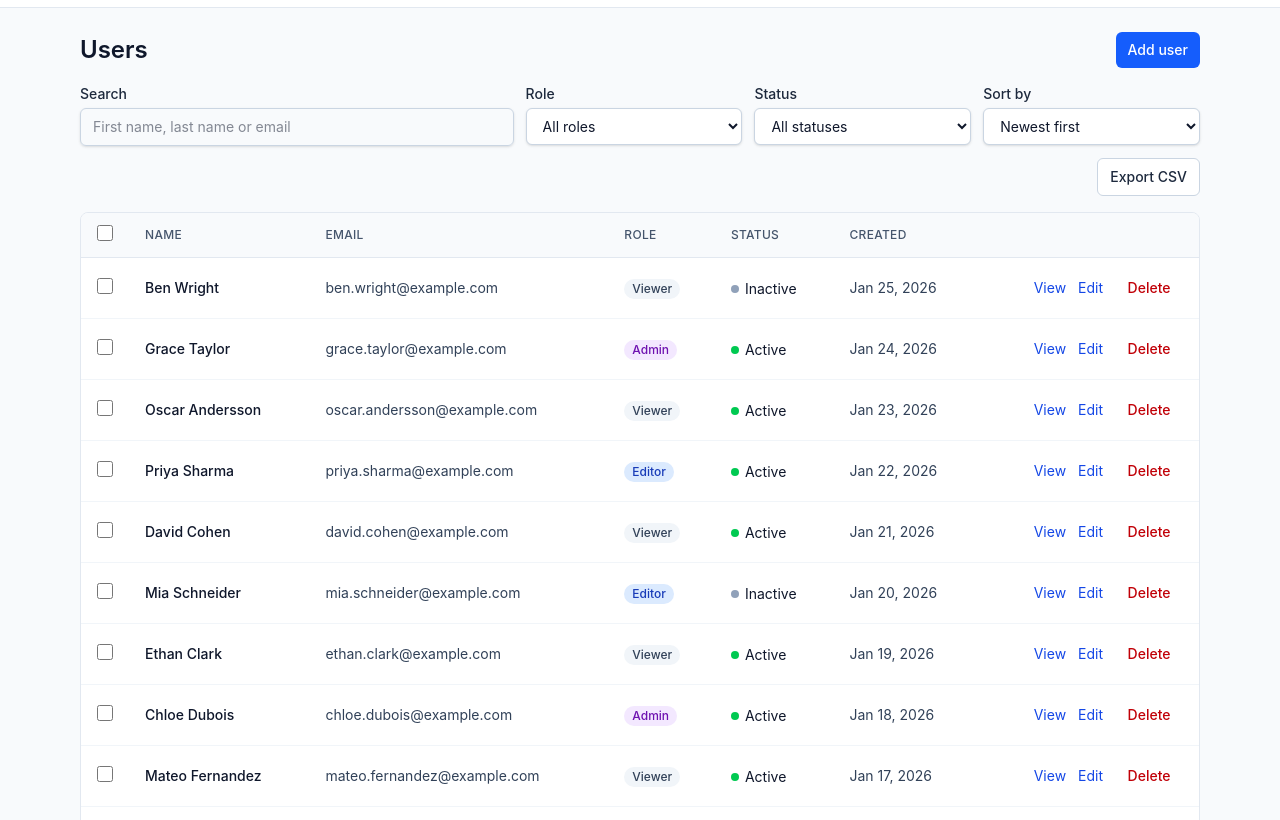
Delete user from the list › Cancel changes nothing and returns focus to the Delete button
The image size is (1280, 820).
Click the button with aria-label "Delete Ben Wright".
click(1149, 288)  # box [1115, 270, 1183, 306]
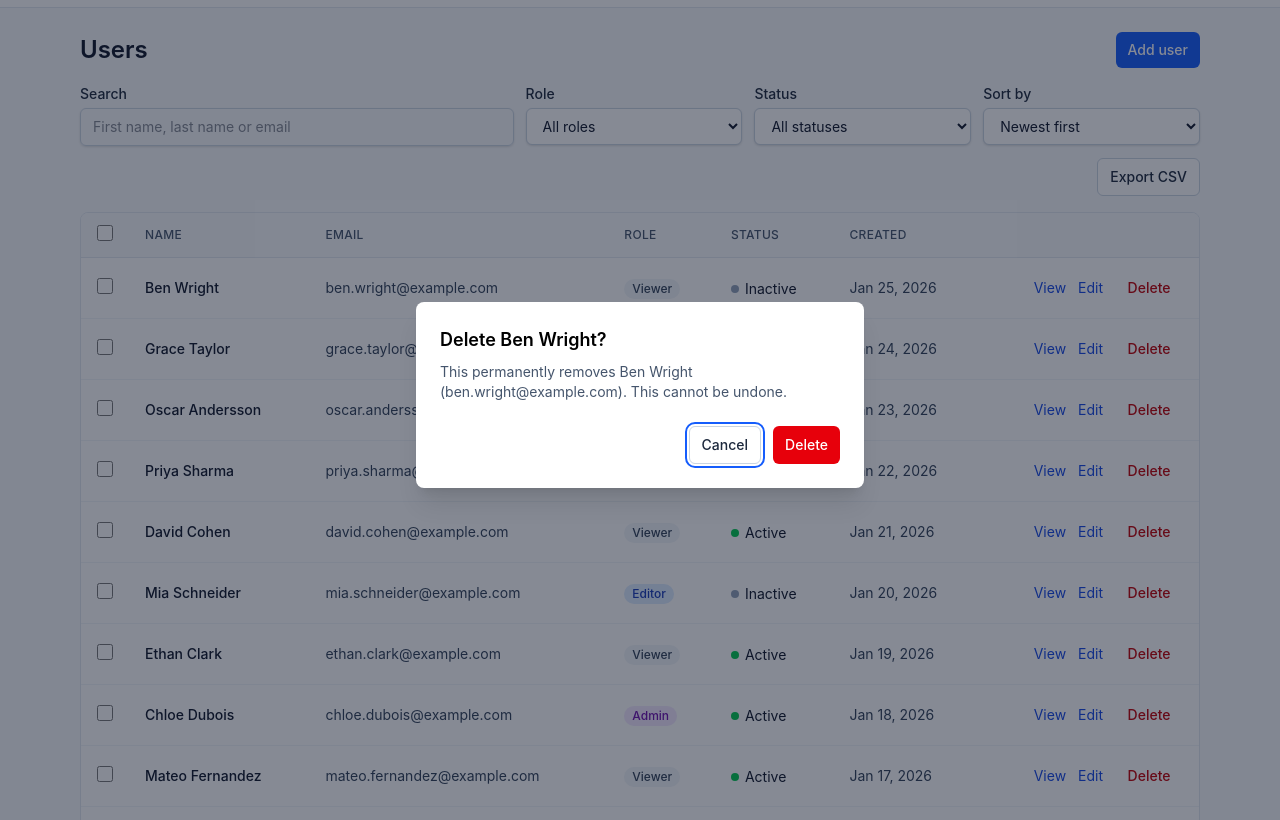
Click the button "Cancel".
click(725, 445)  # box [689, 426, 761, 464]
(page scrolled)
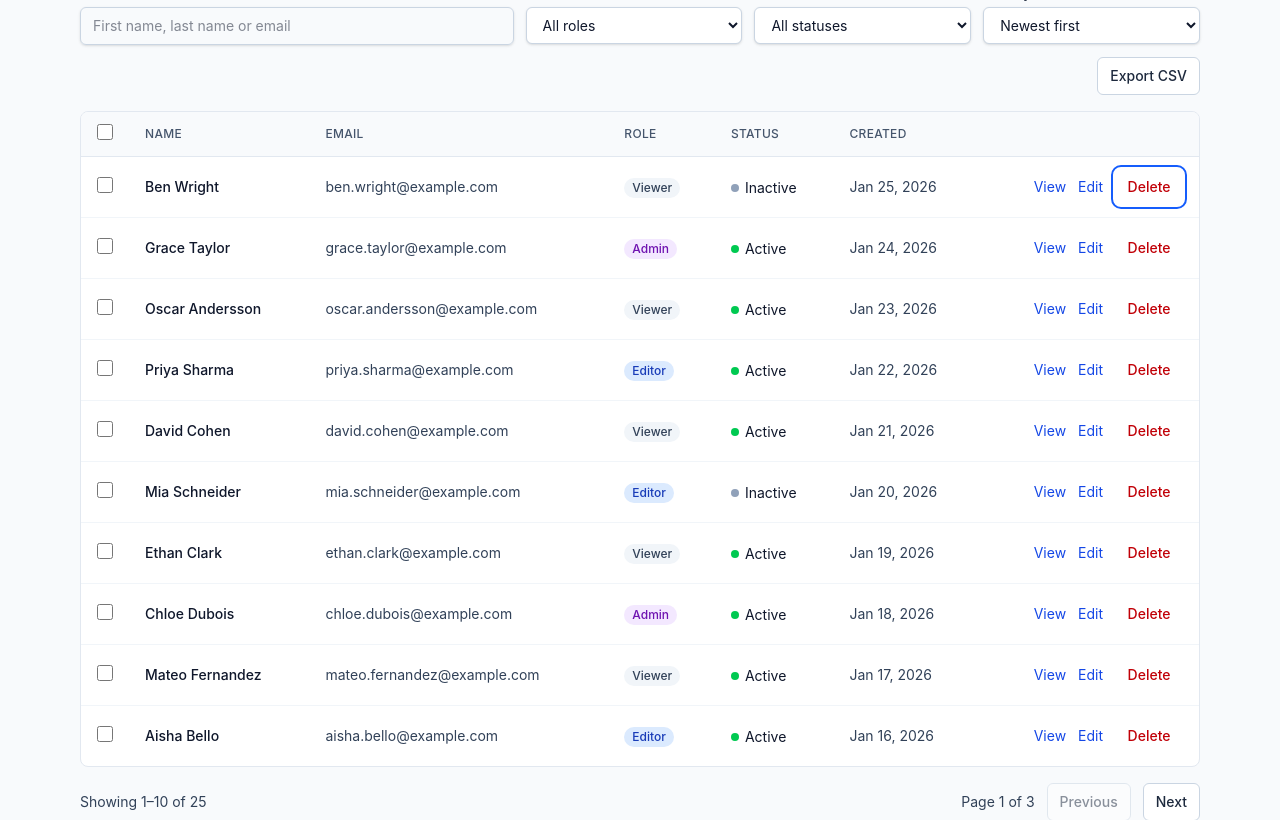
Expected: the text "Showing 1–10 of 25" is shown, [80, 792, 207, 812]
Expected: the dialog is gone
